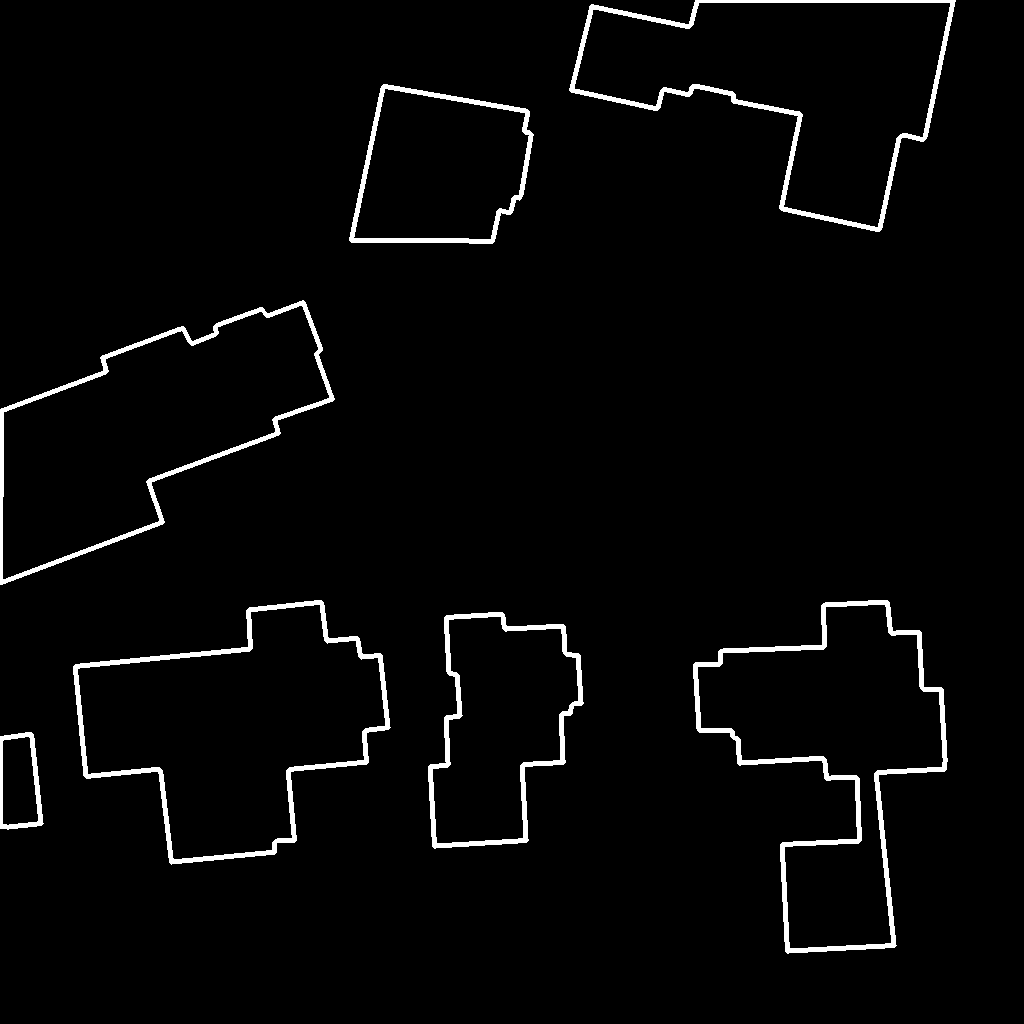building: (0, 302, 334, 584), (571, 0, 955, 231), (695, 602, 946, 952), (75, 602, 389, 863), (430, 614, 582, 847), (351, 86, 532, 242), (0, 734, 42, 828)
